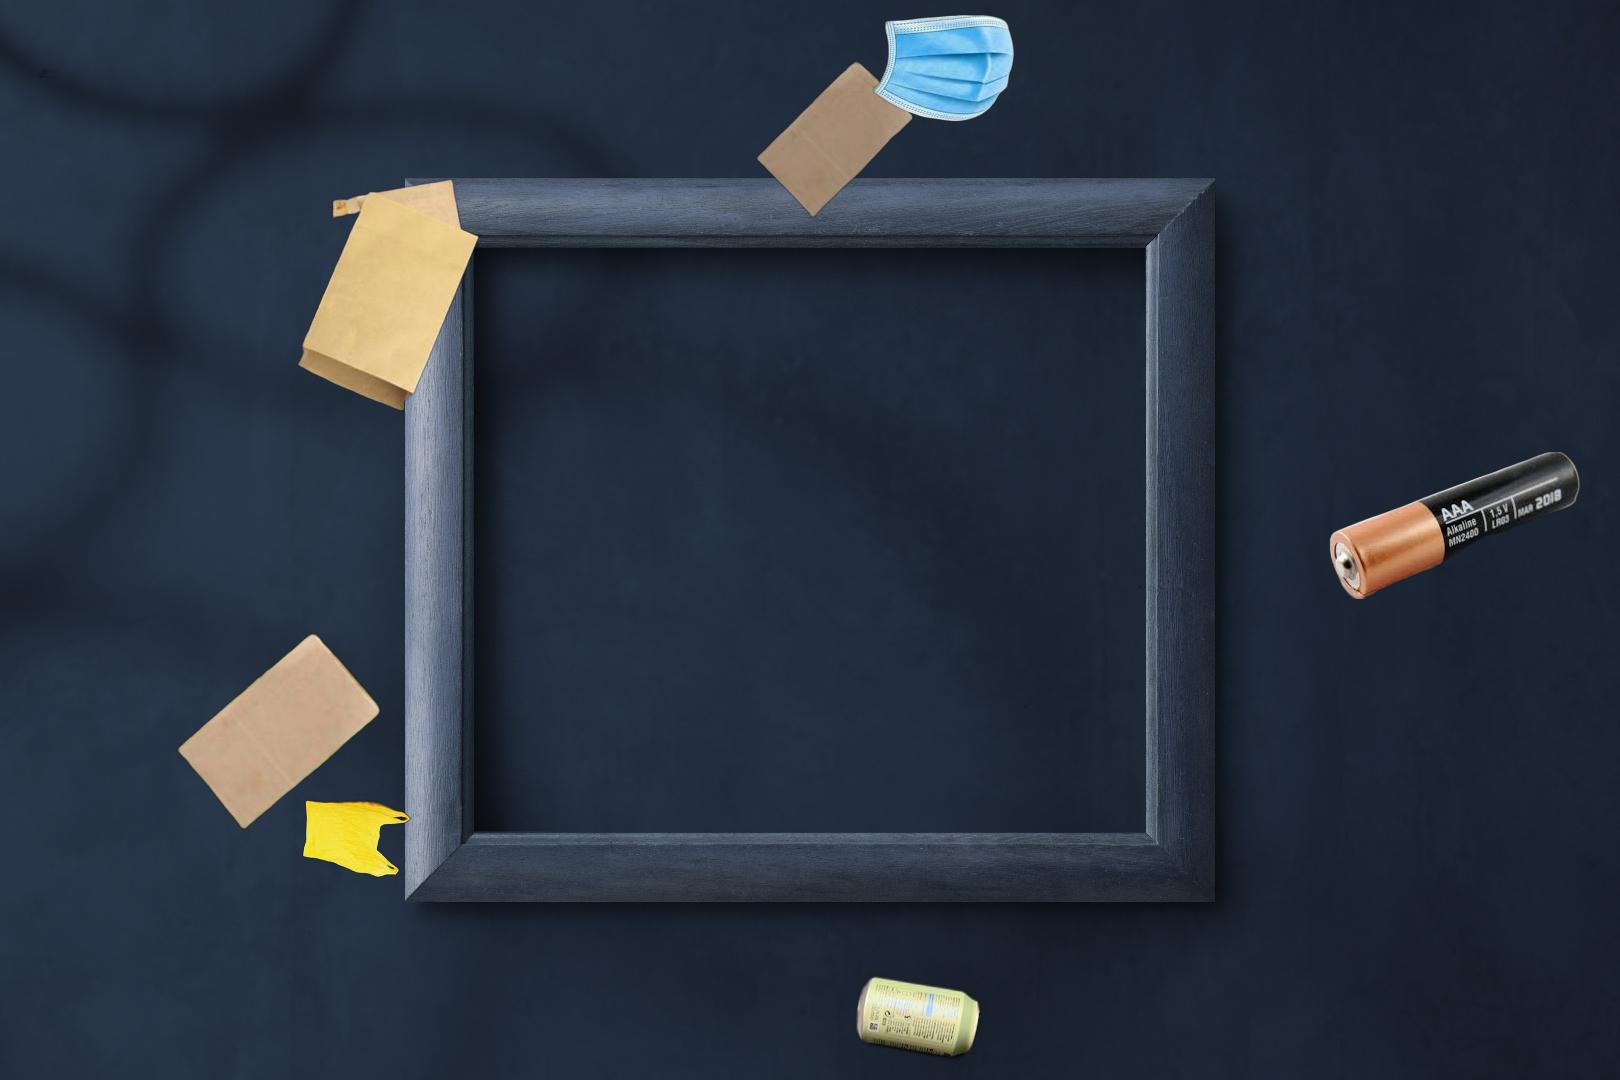battery: (1326, 452, 1583, 599)
metal-cans: (853, 972, 985, 1067)
paper-bag: (269, 159, 569, 412), (174, 630, 382, 830), (753, 59, 915, 221)
plastic-bag: (301, 798, 413, 880)
trash: (830, 11, 1016, 124)
